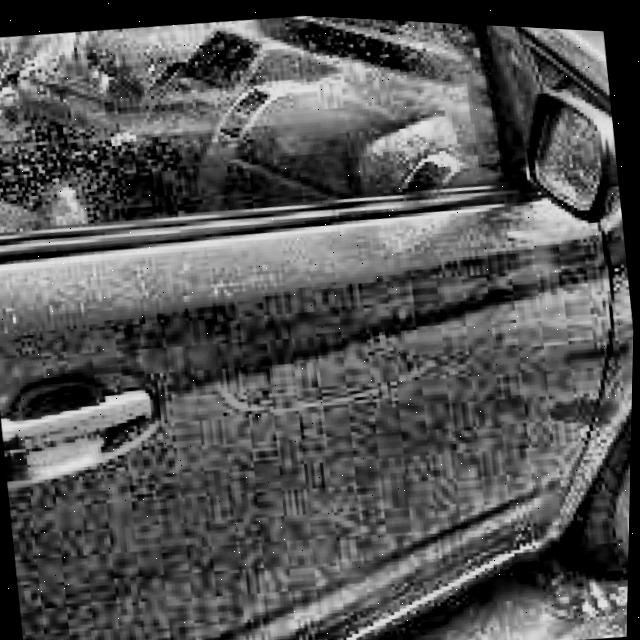door_scratch: (212, 332, 447, 446)
